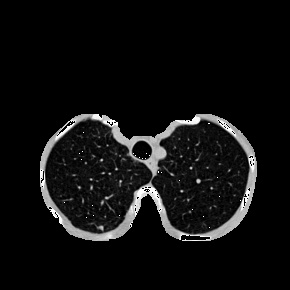PN: (99, 226, 103, 230)
